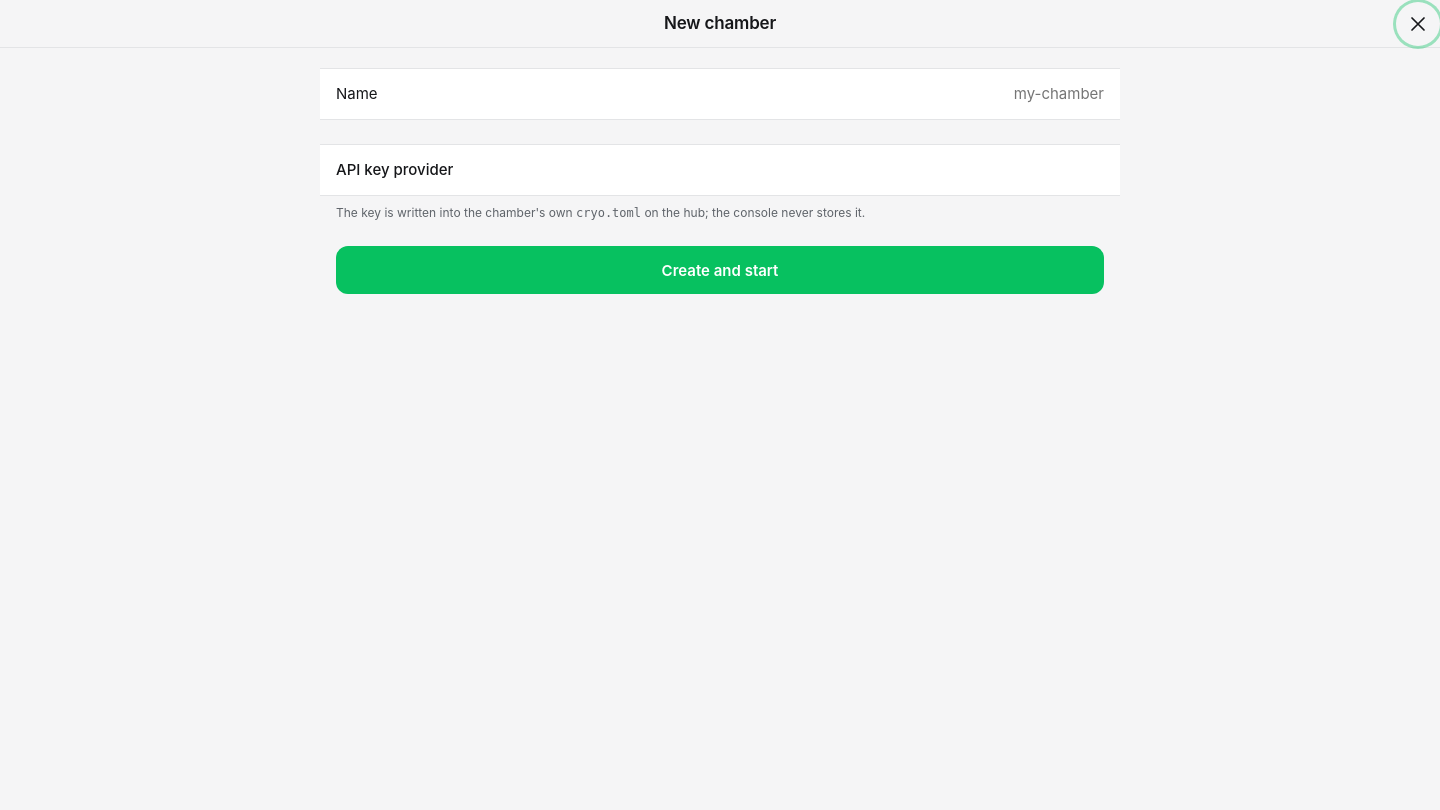
the hub error is shown verbatim and the form stays open
This screenshot has width=1440, height=810.
Type "gamma" into the field labelled "Name" at (747, 94), box top-left (390, 83), bottom-right (1104, 105)
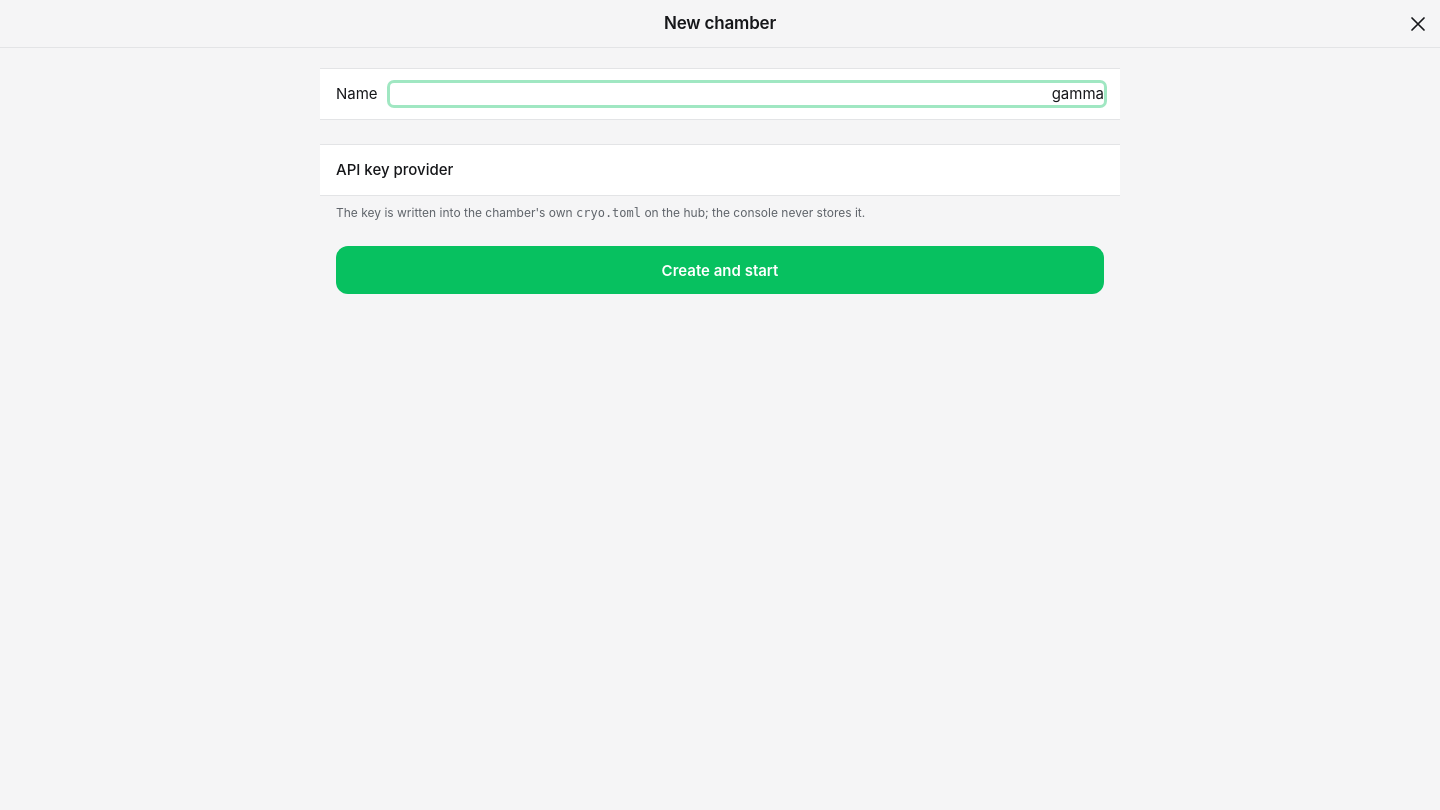
Click the button "Create and start" at (720, 270), box top-left (336, 246), bottom-right (1104, 294)
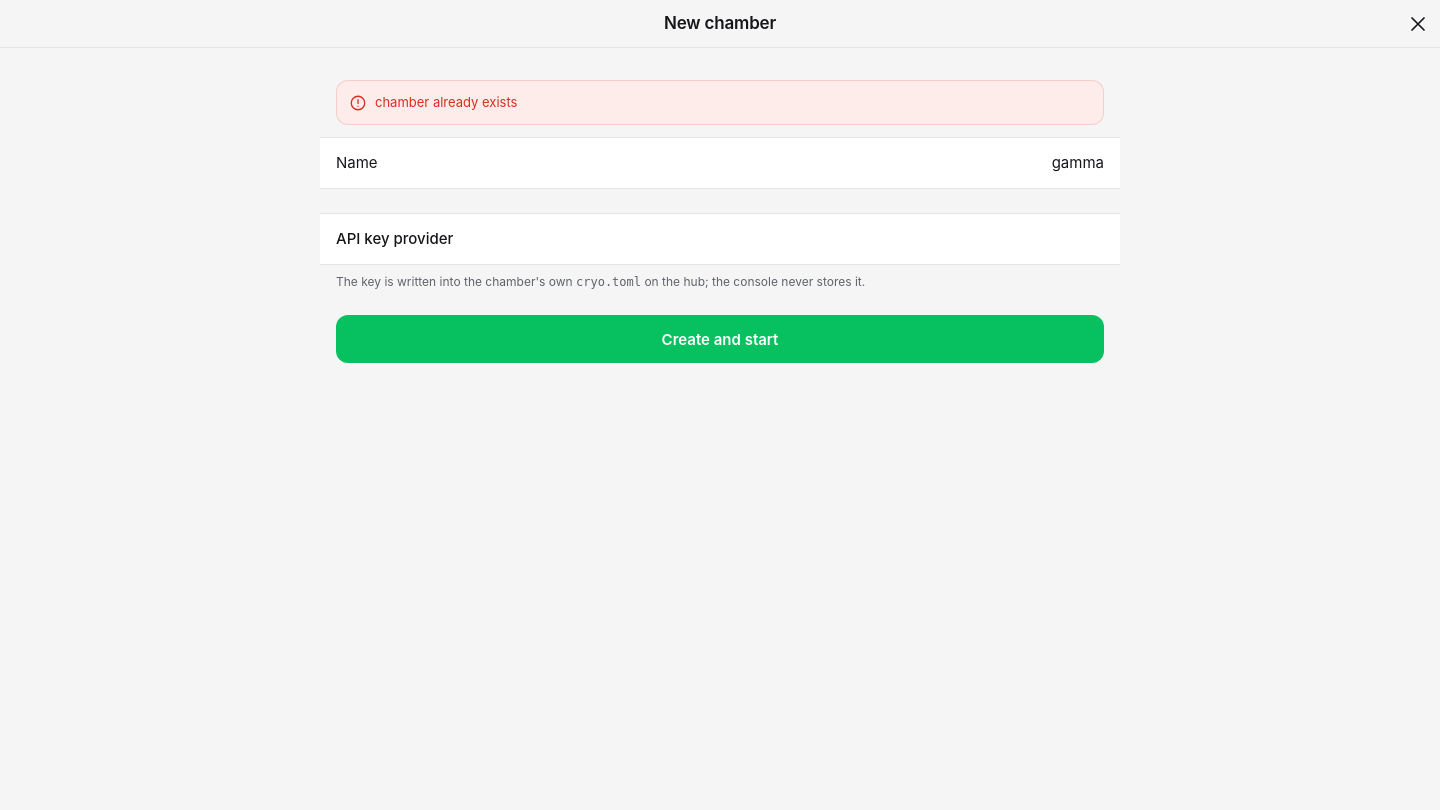
expect the button "Create and start" is enabled: met, box top-left (336, 315), bottom-right (1104, 363)
expect the message reads "chamber already exists": met, box top-left (375, 94), bottom-right (517, 110)
